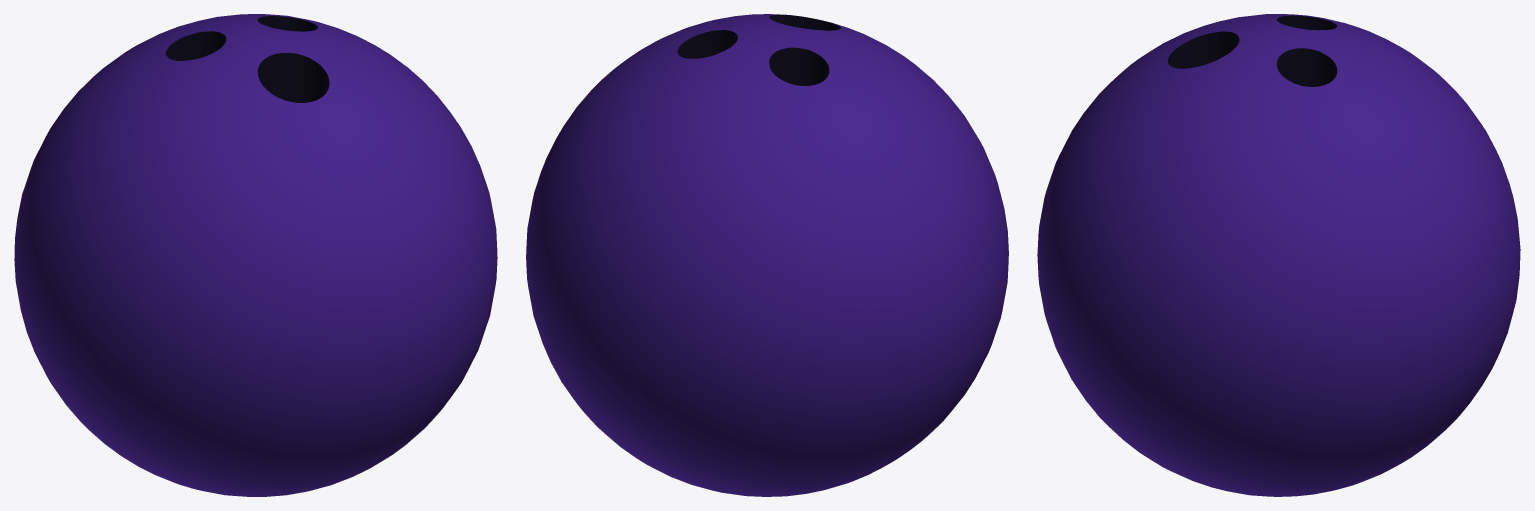
The model's file is neon-pearl-ball-mobile-v1.glb.
3 renders of one model, left to right at view 1: azimuth 30°, elevation 25°; view 2: azimuth 150°, elevation 25°; view 3: azimuth 270°, elevation 25°, orthographic.
Visible parts, largest first — view 1: PearlBall; view 2: PearlBall; view 3: PearlBall.
Boxes of the visible parts, x1,y1,x2,y2 form: PearlBall: (14,14,497,496); PearlBall: (526,14,1008,496); PearlBall: (1037,14,1520,496).
Bounding box in the file's own units: 0.43 × 0.43 × 0.43.
